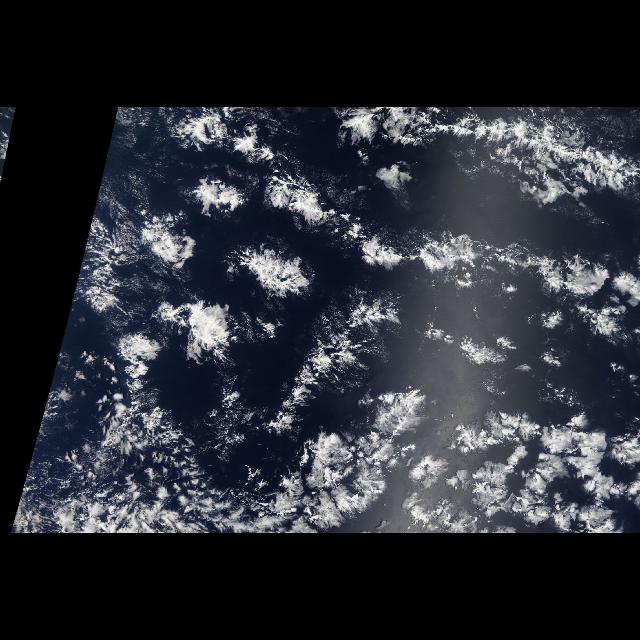Fish: (330, 110, 638, 320)
Flower: (72, 107, 638, 533)
